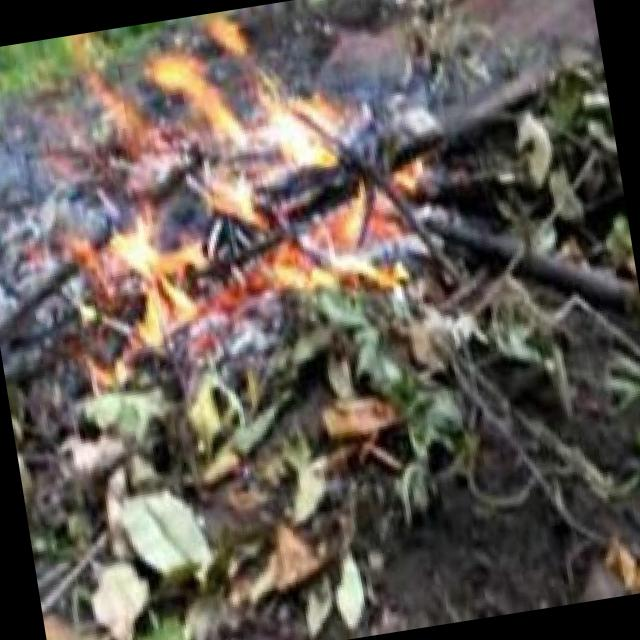Fire: (0, 0, 465, 409)
